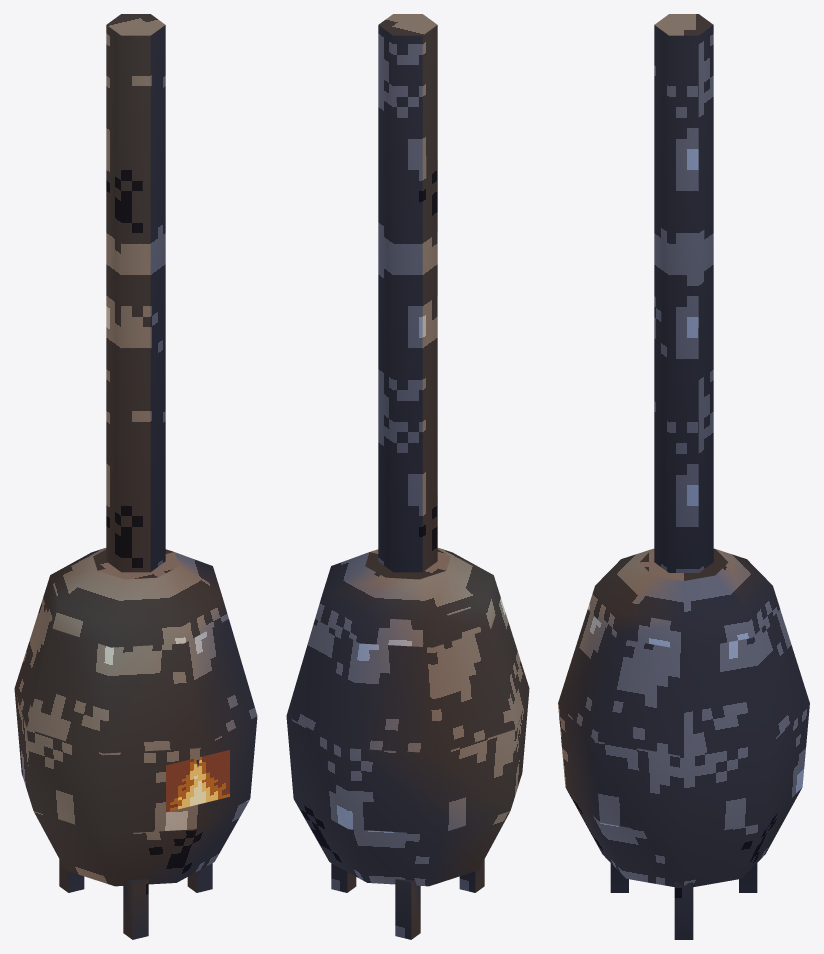
Rendered from wprop.stove.glb.
3 views of the same model, side by side, from view 1: azimuth 30°, elevation 25°; view 2: azimuth 150°, elevation 25°; view 3: azimuth 270°, elevation 25° (orthographic).
Visible parts, largest first — view 1: kit_body, kit_pipe, kit_card_grate, kit_legs; view 2: kit_body, kit_pipe, kit_legs; view 3: kit_body, kit_pipe, kit_legs.
Boxes of the visible parts, left/top/right/bottom form: kit_body: left=14, top=548, right=257, bottom=886; kit_pipe: left=106, top=14, right=165, bottom=572; kit_card_grate: left=166, top=750, right=229, bottom=812; kit_legs: left=59, top=859, right=212, bottom=939; kit_body: left=286, top=548, right=529, bottom=886; kit_pipe: left=378, top=14, right=437, bottom=572; kit_legs: left=331, top=859, right=484, bottom=939; kit_body: left=558, top=548, right=809, bottom=886; kit_pipe: left=654, top=14, right=713, bottom=572; kit_legs: left=610, top=863, right=757, bottom=939.
Bounding box in the file's own units: 0.68 × 2.62 × 0.68.
2 materials, 2 textured.
